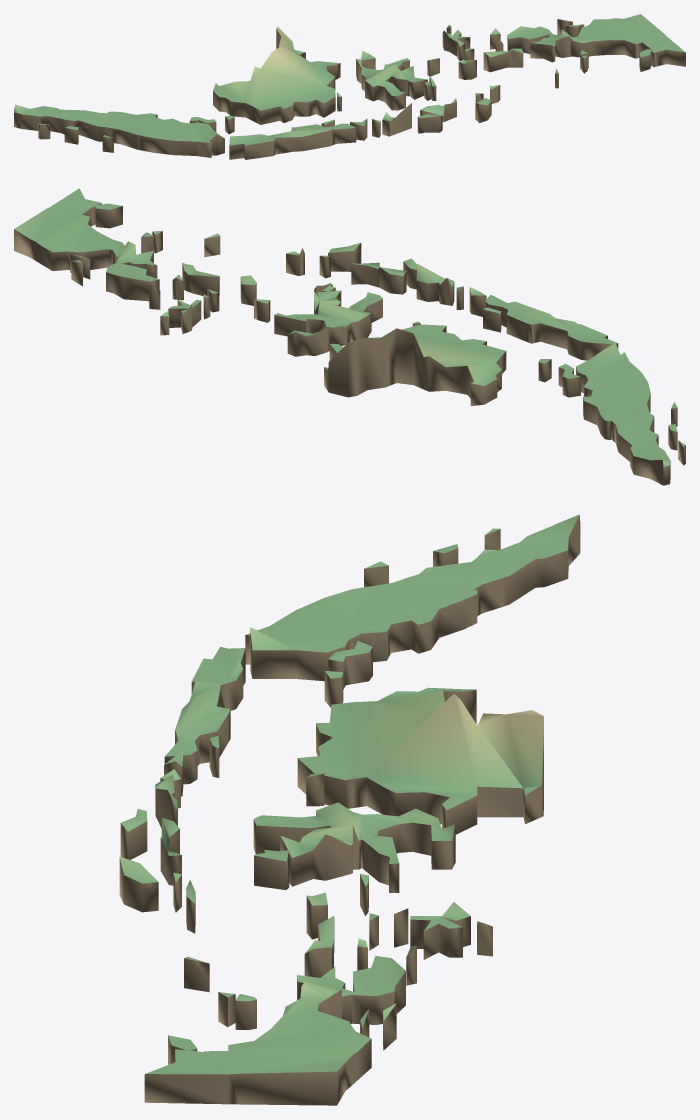
Rendered from IDN.glb.
3 views of the same model, one above another, from view 1: azimuth 30°, elevation 25°; view 2: azimuth 150°, elevation 25°; view 3: azimuth 270°, elevation 25° (orthographic). The views are drawn at different scales.
Visible parts, largest first — view 1: IDN; view 2: IDN; view 3: IDN.
Part boxes in pixels (x1,y1,x2,y2): IDN: (14, 14, 685, 159); IDN: (14, 188, 685, 485); IDN: (119, 514, 580, 1105).
Bounding box in the file's own units: 1.78 × 0.1309 × 0.6257.
